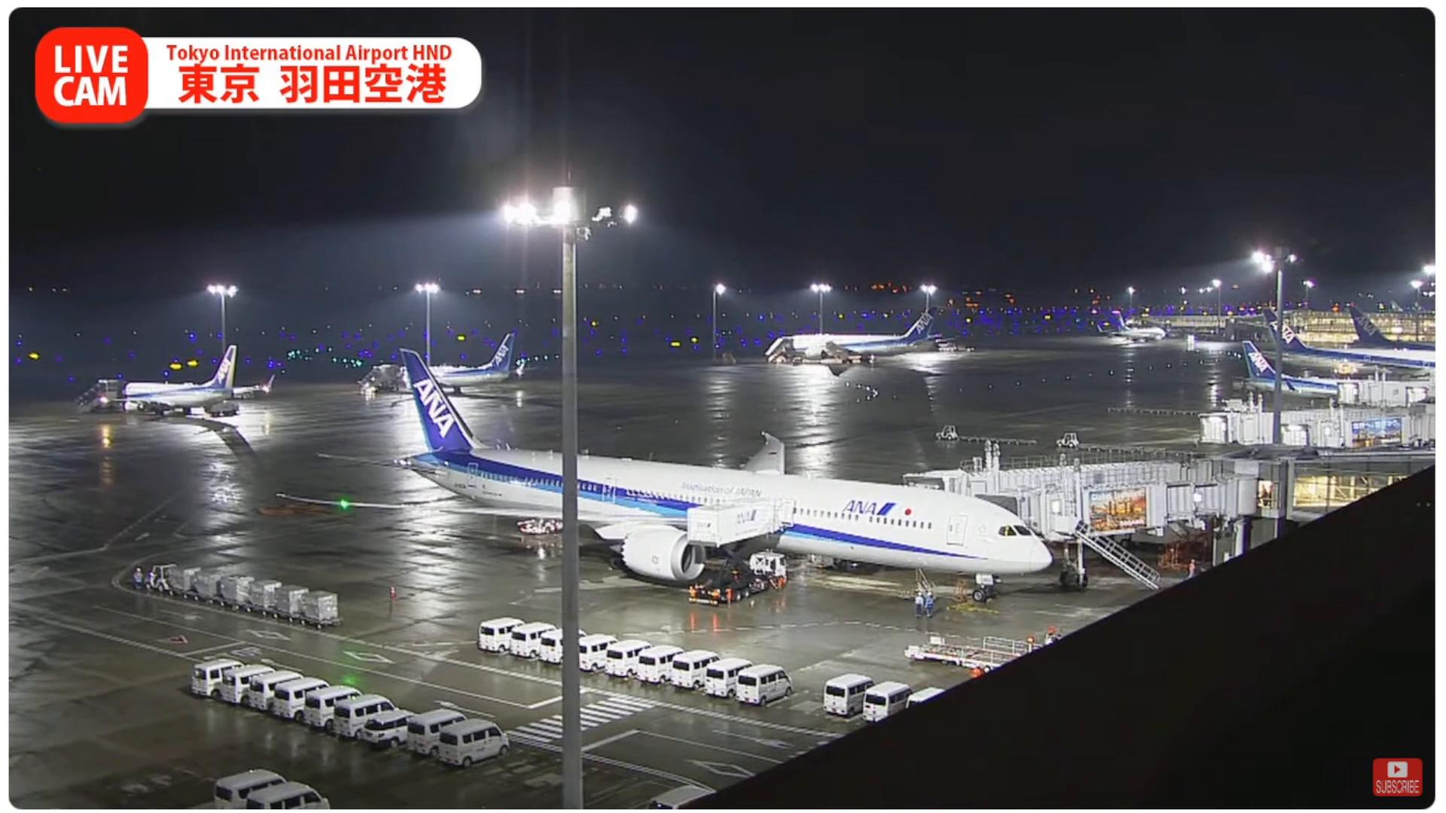Aerobridge: (985, 471, 1284, 539), (899, 458, 1292, 499)
Airplane: (265, 341, 1054, 590)
Catering: (682, 495, 786, 617)
Dolly: (183, 548, 354, 645)
JCPL: (896, 634, 1019, 678), (943, 630, 1053, 658)
Tractor: (124, 550, 183, 609)
Window: (1286, 461, 1434, 519)
